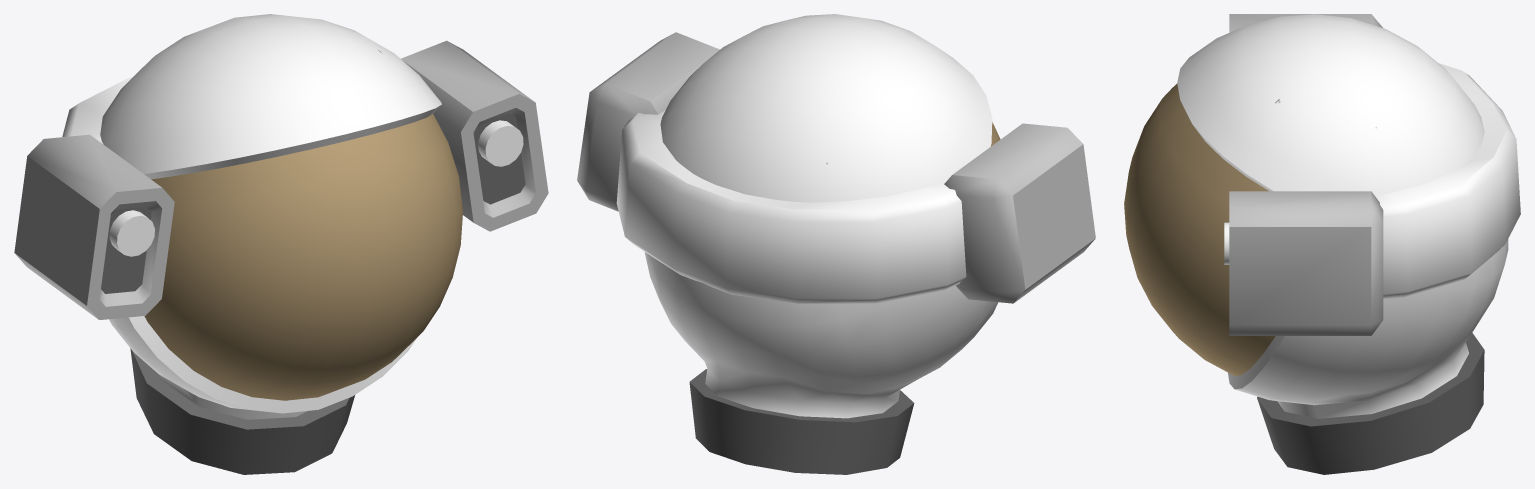
The model's file is 31宇航头盔.fbx.
3 views of the same model, side by side, from view 1: azimuth 30°, elevation 25°; view 2: azimuth 150°, elevation 25°; view 3: azimuth 270°, elevation 25° (orthographic). The views are drawn at different scales.
Visible parts, largest first — view 1: 31宇航头盔, SpacemanHelmetGlass; view 2: 31宇航头盔; view 3: 31宇航头盔, SpacemanHelmetGlass.
Part boxes in pixels (x1,y1,x2,y2): 31宇航头盔: [14, 14, 548, 474]; SpacemanHelmetGlass: [144, 114, 462, 400]; 31宇航头盔: [577, 14, 1095, 474]; 31宇航头盔: [1177, 14, 1520, 474]; SpacemanHelmetGlass: [1124, 83, 1275, 375].
Size of the model in its own units: 0.6412 by 0.5653 by 0.4877.
